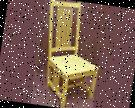Silla: (36, 0, 107, 107)
